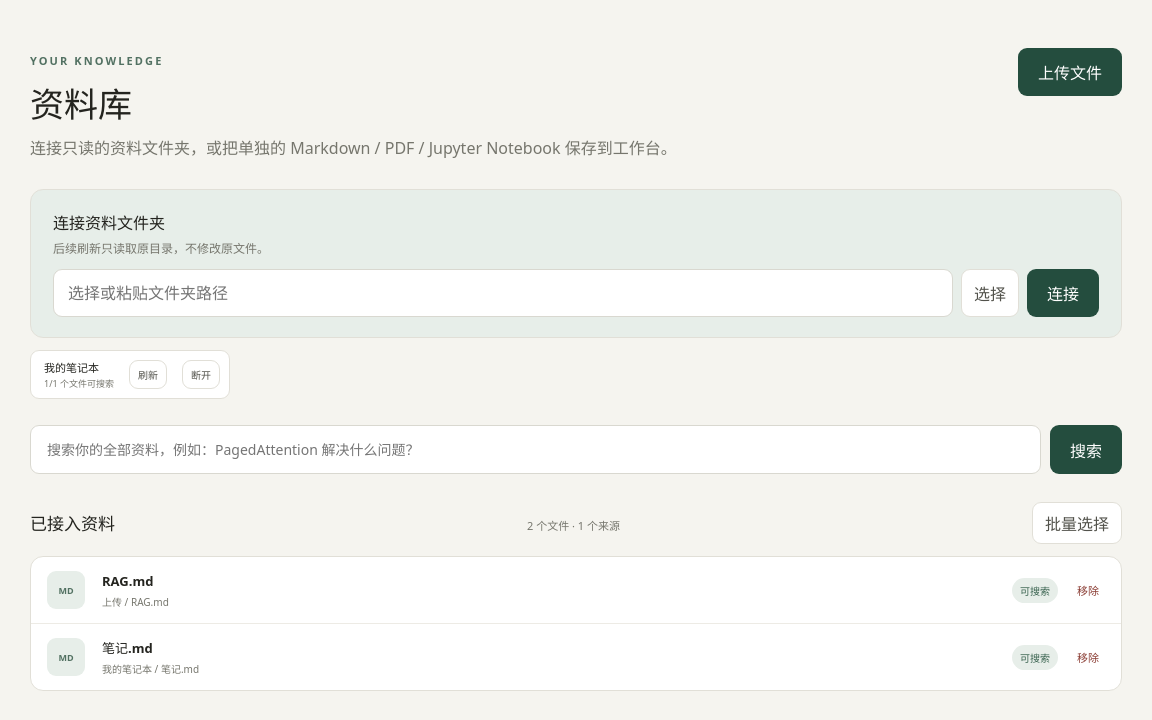
Test case: LibraryPage 的批量移除 › 确认框把文件夹来源的「暂时移除」说清楚，确认后才发请求
What coordinates should you click on to do the following:
click the button "批量选择"
I would click on:
 (1077, 523)
Its box is [1032,502,1122,544].
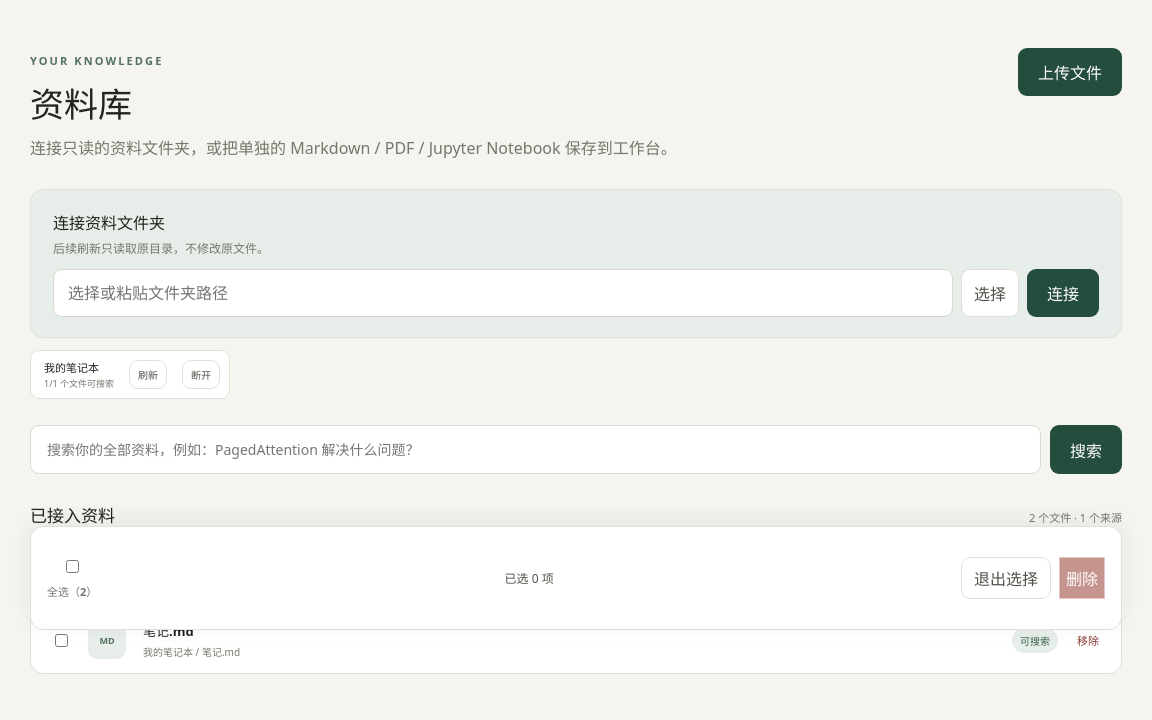
# 选择模式里的行 checkbox：第一条是上传资料，第二条来自文件夹
What coordinates should you click on to do the following:
click the 2nd checkbox
I would click on:
 (62, 640)
Its box is [55,634,68,646].
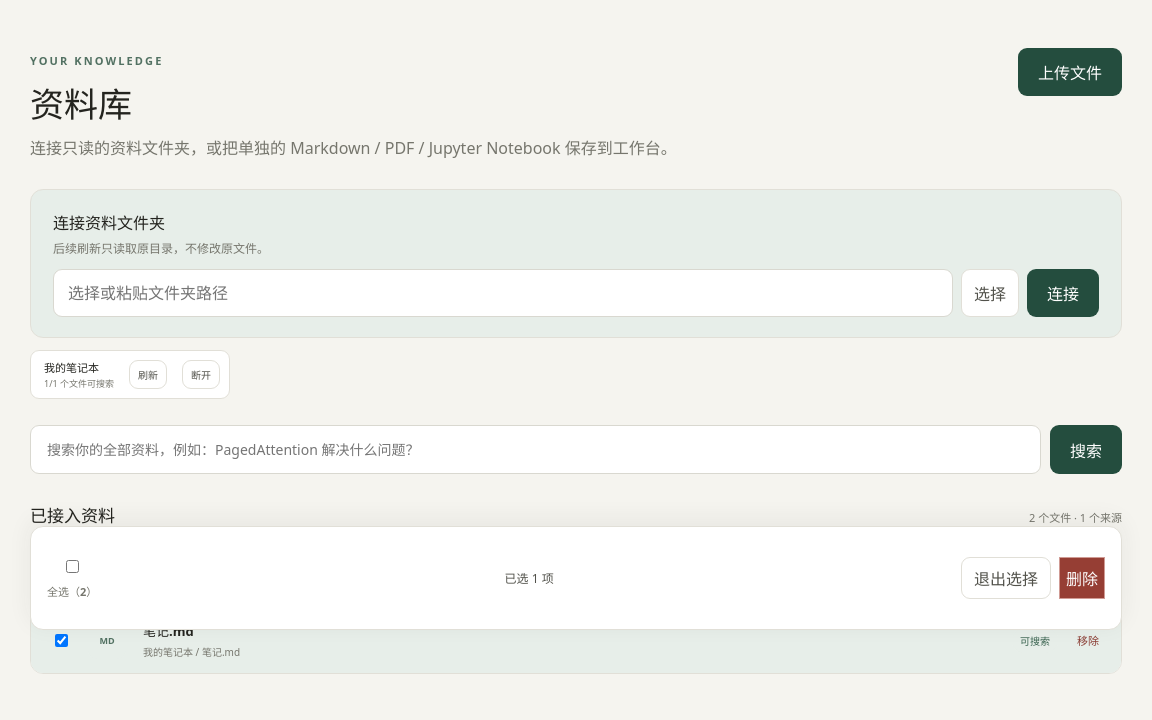
expect the text "已选 1 项" is shown: met, box [505,569,554,587]
What coordinates should you click on to do the following:
click the button "删除"
I would click on:
 (1082, 578)
Its box is [1059,557,1105,599].
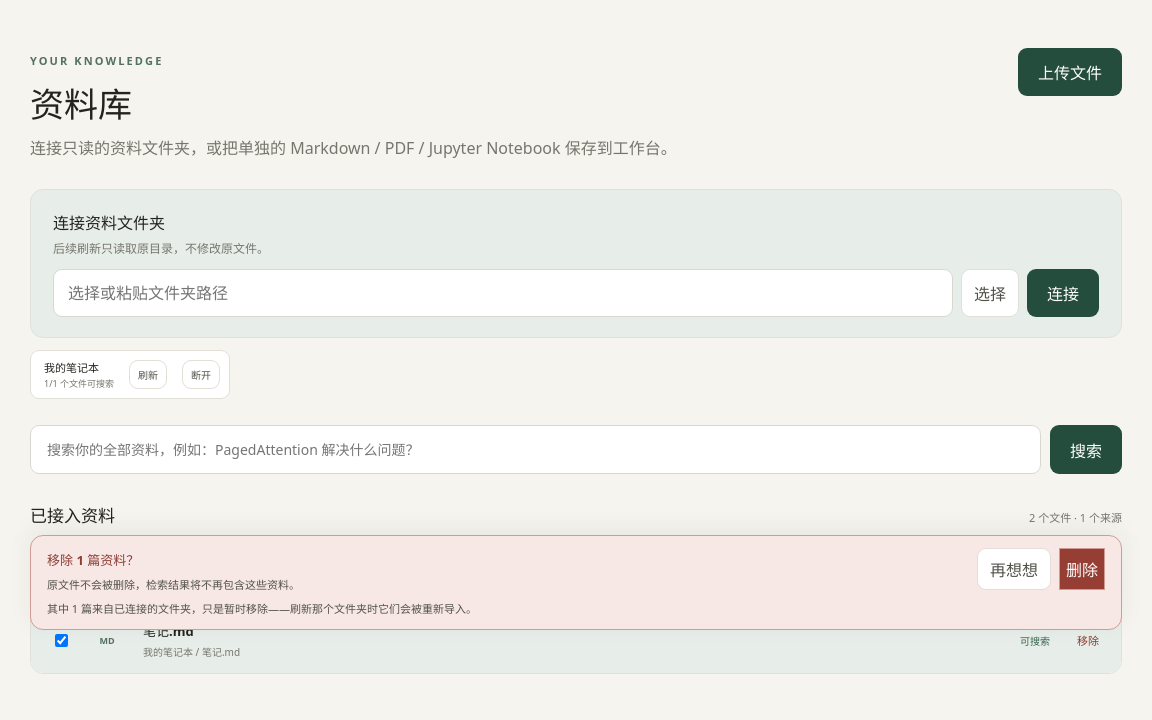
expect the text "移除 1 篇资料？" is shown: met, box [47,551,139,569]
expect the text "其中 1 篇来自已连接的文件夹，只是暂时移除——刷新那个文件夹时它们会被重新导入。" is shown: met, box [47,599,477,617]
What coordinates should you click on to do the following:
click the button "删除"
I would click on:
 (1082, 569)
Its box is [1059,548,1105,590].
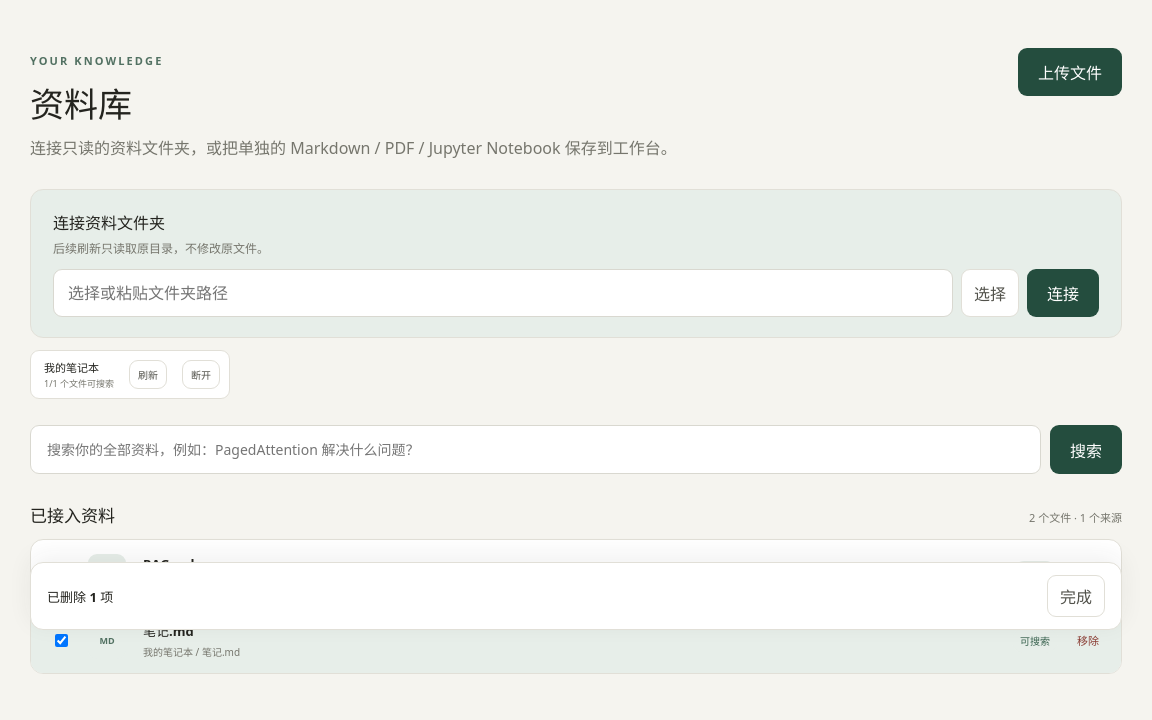
expect the text "已删除 1 项" is shown: met, box [47,586,113,606]
